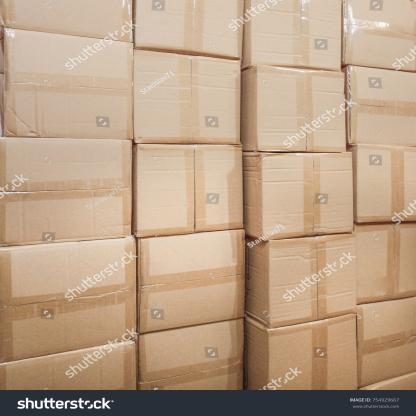box: (0, 237, 135, 365), (3, 29, 132, 140), (0, 137, 131, 245), (137, 228, 250, 334), (134, 142, 245, 234), (136, 50, 240, 143), (268, 235, 356, 328), (259, 155, 355, 240), (257, 66, 346, 152), (266, 313, 356, 389), (248, 0, 343, 69), (349, 65, 416, 143), (356, 225, 416, 307), (346, 0, 416, 69), (359, 144, 416, 222)
